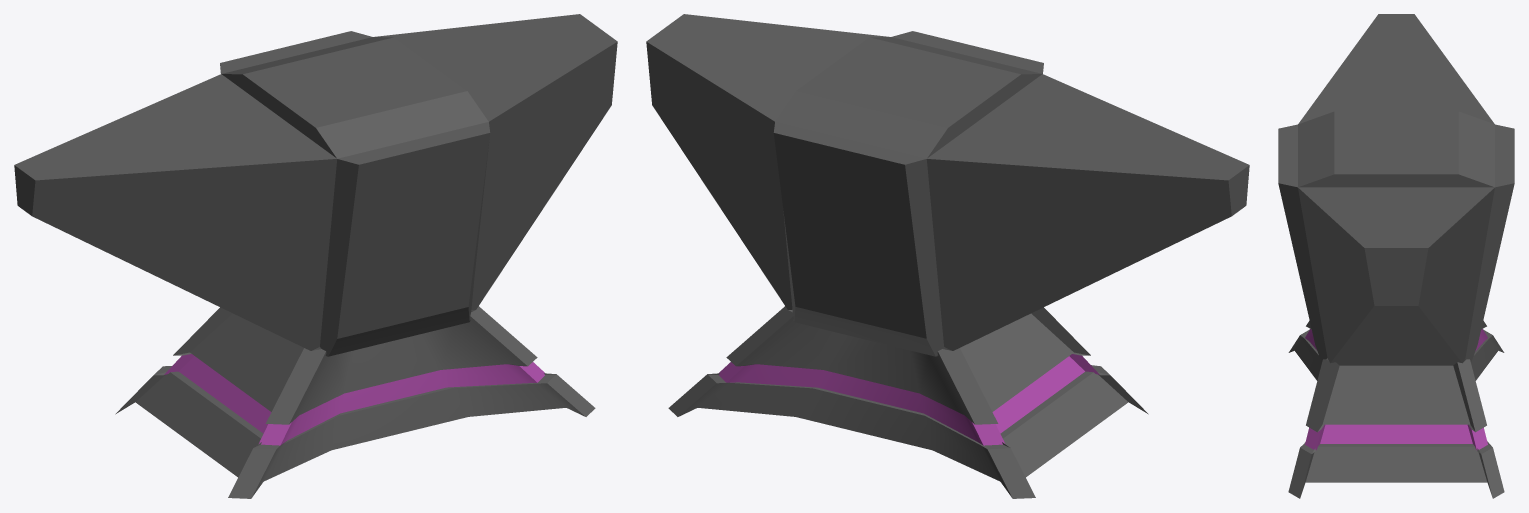
The model's file is Anvil 1.fbx.
The picture shows the model from 3 angles, left to right: view 1: azimuth 30°, elevation 25°; view 2: azimuth 150°, elevation 25°; view 3: azimuth 270°, elevation 25°; orthographic projection. The views are drawn at different scales.
Parts seen in each view (by area): view 1: pCube19; view 2: pCube19; view 3: pCube19.
Part boxes in pixels (<box>): pCube19: <box>14,14,617,498</box>; pCube19: <box>646,14,1249,498</box>; pCube19: <box>1278,14,1514,498</box>.
Size of the model in its own units: 3.95 by 2.16 by 1.66.
